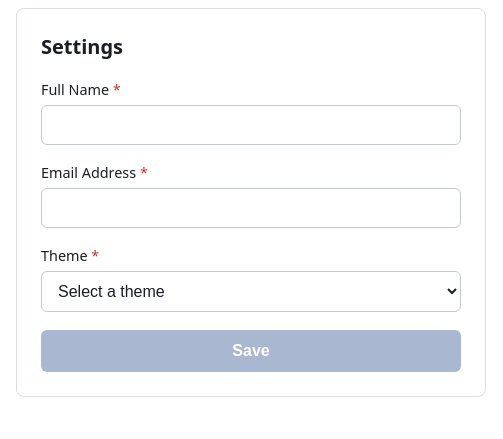
Test: SettingsForm › shows a required error for Email when left blank and blurred
Click the field labelled "Email Address *" at (251, 208), box [41, 188, 461, 228]
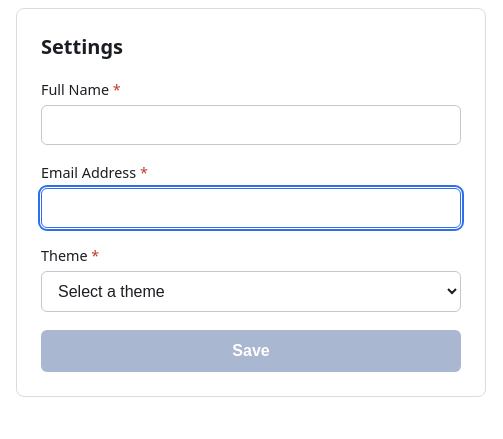
Press Tab
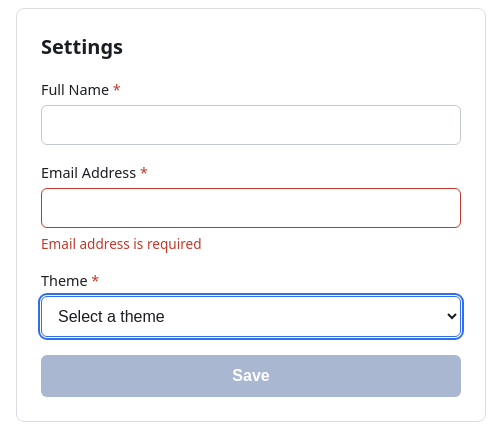
Expected: the text "Email address is required" is shown, [41, 234, 202, 253]
